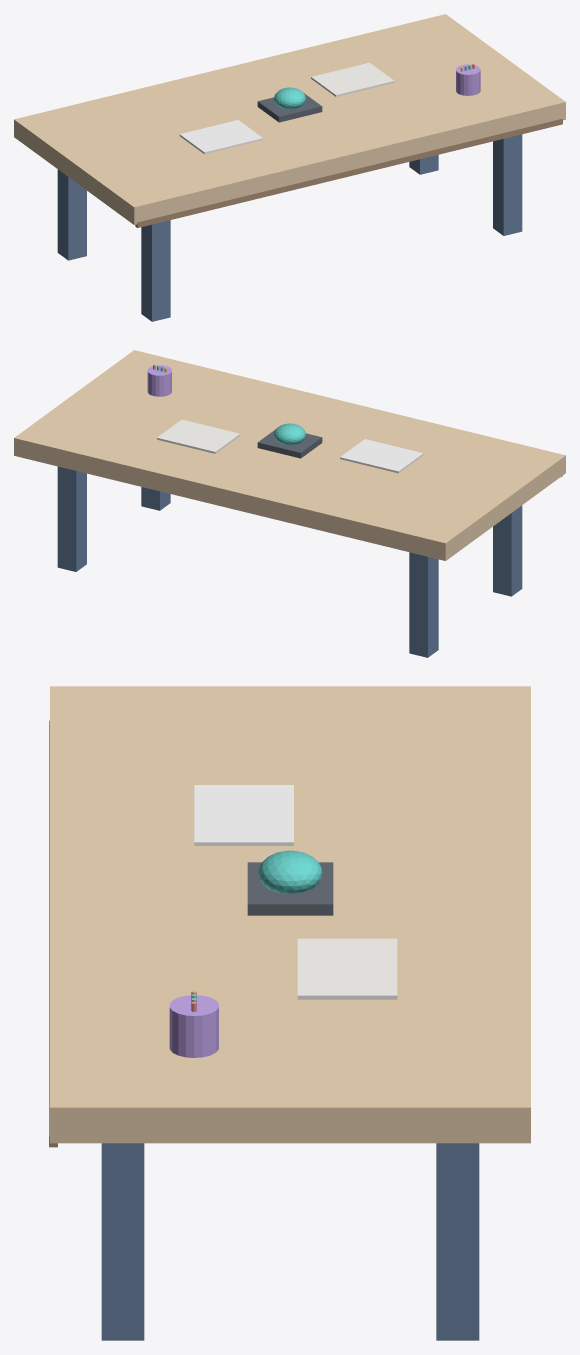
The model's file is meeting_table.glb.
The picture shows the model from 3 angles, top to bottom: view 1: azimuth 30°, elevation 25°; view 2: azimuth 150°, elevation 25°; view 3: azimuth 270°, elevation 25°; orthographic projection. The views are drawn at different scales.
Parts seen in each view (by area): view 1: meeting_top, table_leg_1_1, table_leg_0_1, table_edge, table_leg_0_0, paper_left, paper_right, speaker_base, pencil_cup, speaker, table_leg_1_0; view 2: meeting_top, table_leg_1_0, table_leg_0_0, table_leg_0_1, paper_left, paper_right, speaker_base, pencil_cup, speaker, table_leg_1_1; view 3: meeting_top, table_leg_1_0, table_leg_1_1, paper_right, paper_left, speaker_base, pencil_cup, speaker.
Part boxes in pixels (bbox=[...]): meeting_top: bbox=[14, 14, 565, 224]; table_leg_1_1: bbox=[493, 134, 522, 235]; table_leg_0_1: bbox=[141, 220, 170, 321]; table_edge: bbox=[135, 118, 562, 227]; table_leg_0_0: bbox=[57, 169, 86, 260]; paper_left: bbox=[179, 120, 262, 154]; paper_right: bbox=[311, 62, 394, 96]; speaker_base: bbox=[257, 92, 322, 122]; pencil_cup: bbox=[456, 64, 480, 95]; speaker: bbox=[274, 87, 305, 109]; table_leg_1_0: bbox=[409, 154, 438, 174]; meeting_top: bbox=[14, 350, 565, 560]; table_leg_1_0: bbox=[57, 466, 86, 571]; table_leg_0_0: bbox=[409, 552, 438, 657]; table_leg_0_1: bbox=[493, 505, 522, 596]; paper_left: bbox=[340, 439, 423, 473]; paper_right: bbox=[157, 419, 240, 453]; speaker_base: bbox=[257, 428, 322, 458]; pencil_cup: bbox=[147, 365, 171, 396]; speaker: bbox=[274, 423, 305, 445]; table_leg_1_1: bbox=[141, 487, 170, 510]; meeting_top: bbox=[50, 686, 530, 1143]; table_leg_1_0: bbox=[436, 1143, 479, 1340]; table_leg_1_1: bbox=[101, 1143, 144, 1340]; paper_right: bbox=[297, 938, 397, 999]; paper_left: bbox=[194, 785, 293, 845]; speaker_base: bbox=[247, 862, 333, 915]; pencil_cup: bbox=[169, 995, 218, 1057]; speaker: bbox=[258, 850, 322, 893].
Bounding box in the file's own units: 2.8 × 0.97 × 1.35.
